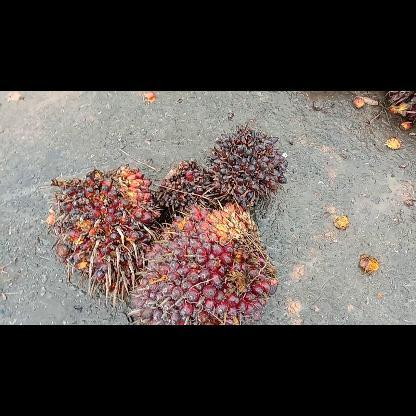TBS abnormal: (202, 121, 290, 209), (154, 157, 214, 223)
TBS masak: (124, 200, 280, 324), (43, 162, 165, 310)
